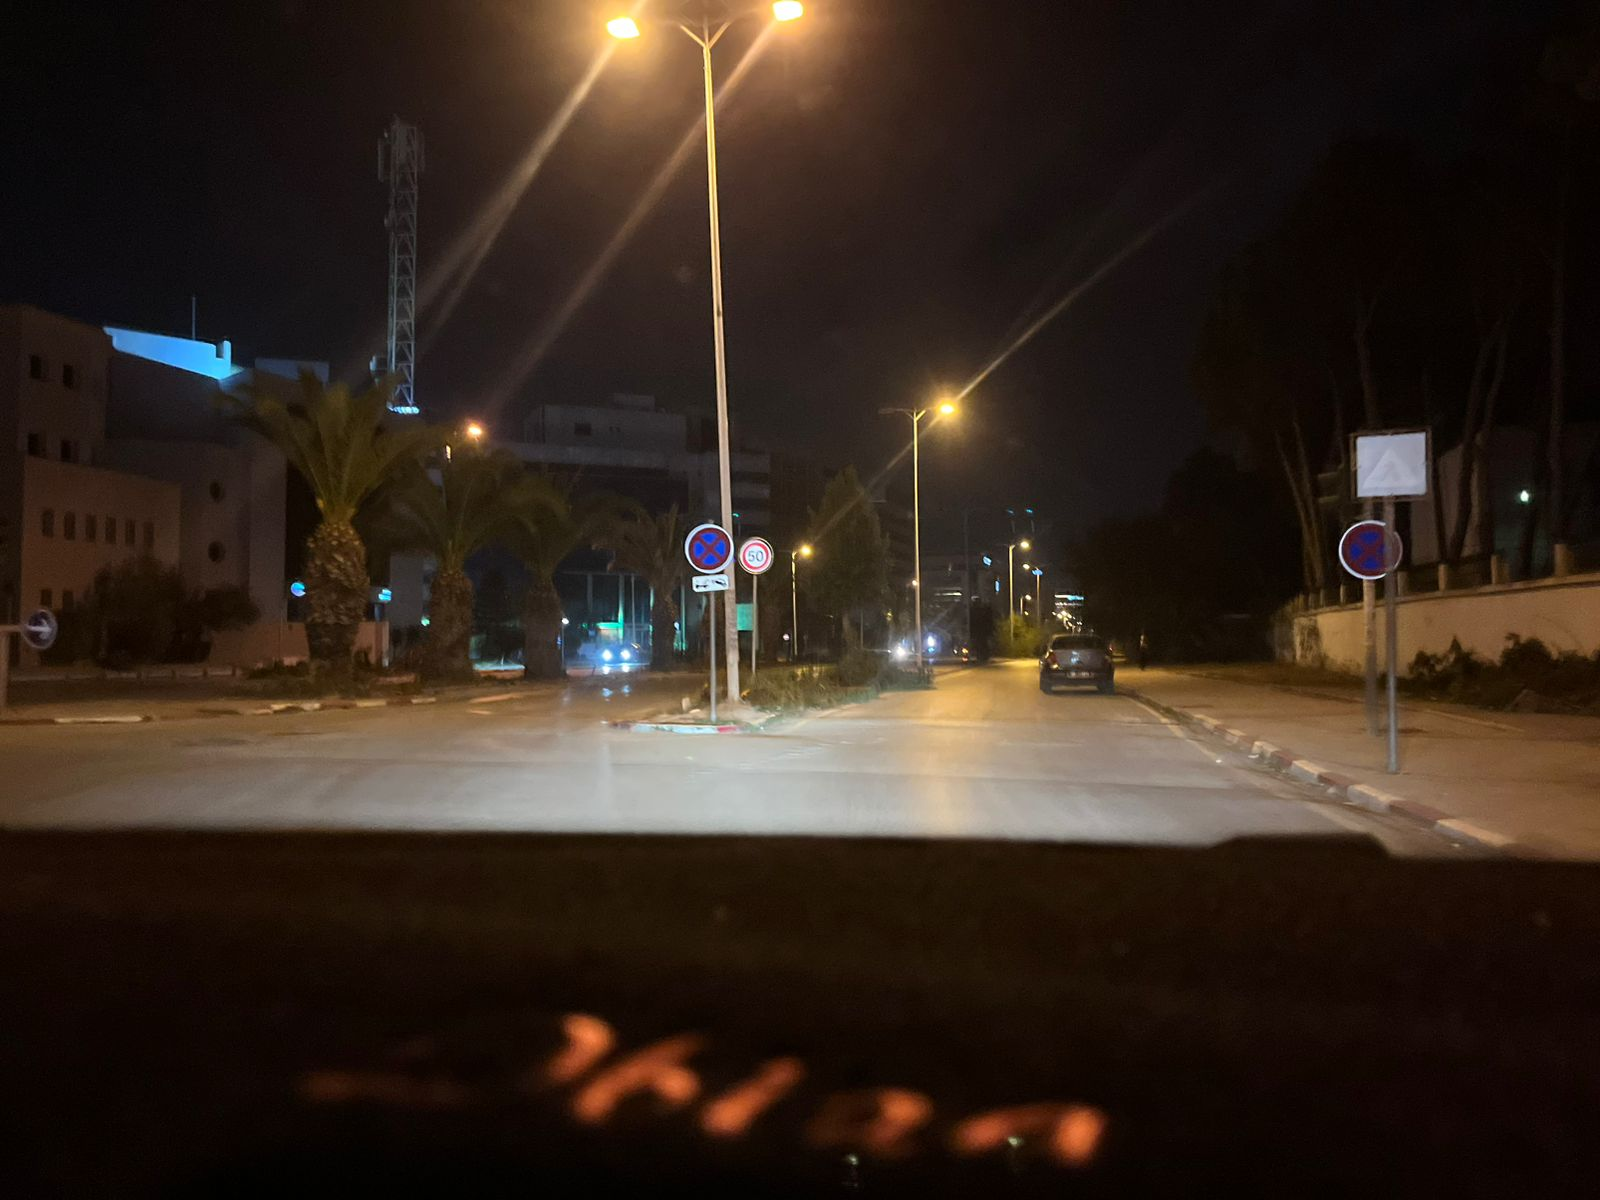SpeedLimit50: (737, 537, 775, 574)
